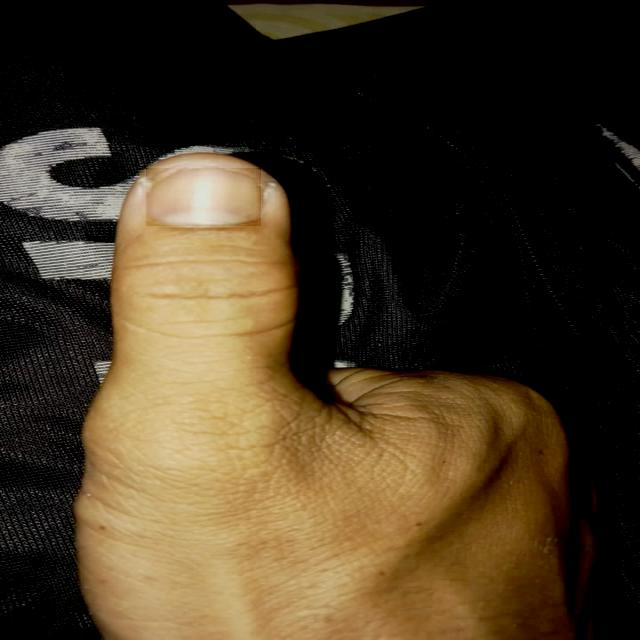sehat: (146, 168, 261, 226)
